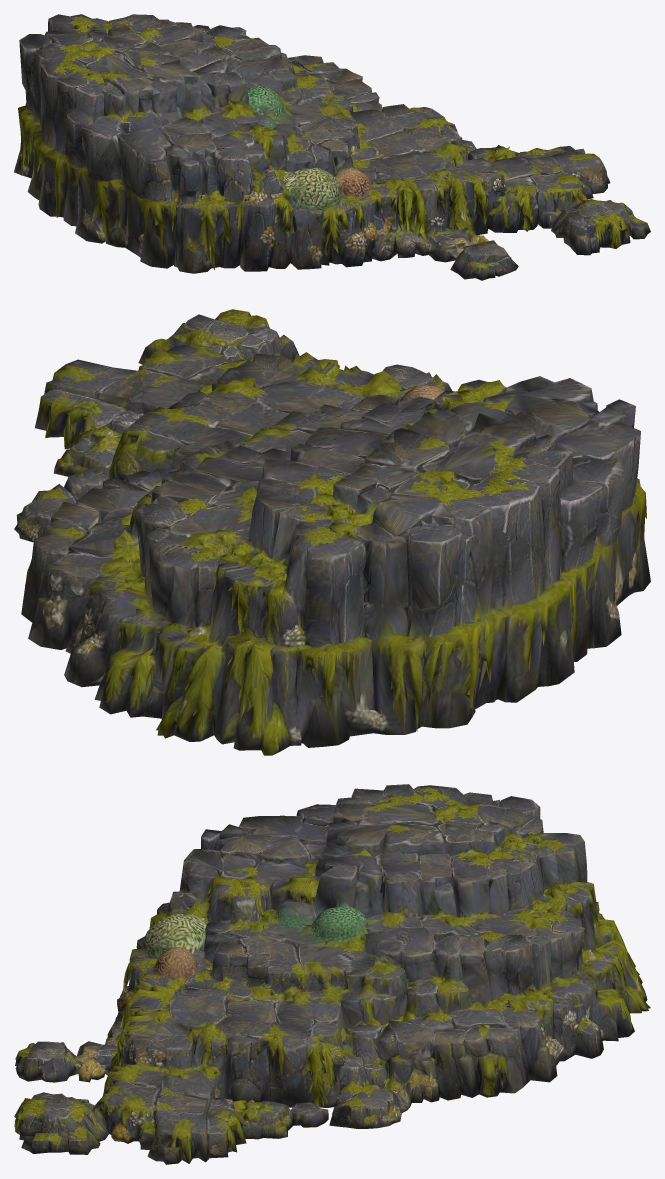
Rendered from stepped_basalt_reef.glb.
3 views of the same model, one above another, from view 1: azimuth 30°, elevation 25°; view 2: azimuth 150°, elevation 25°; view 3: azimuth 270°, elevation 25° (orthographic). The views are drawn at different scales.
Parts seen in each view (by area): view 1: Model; view 2: Model; view 3: Model.
Boxes of the visible parts, bbox=[...] form: Model: bbox=[14, 14, 650, 280]; Model: bbox=[14, 309, 650, 755]; Model: bbox=[14, 784, 650, 1164].
Bounding box in the file's own units: 32.64 × 9.29 × 36.
1 material, 1 textured.
